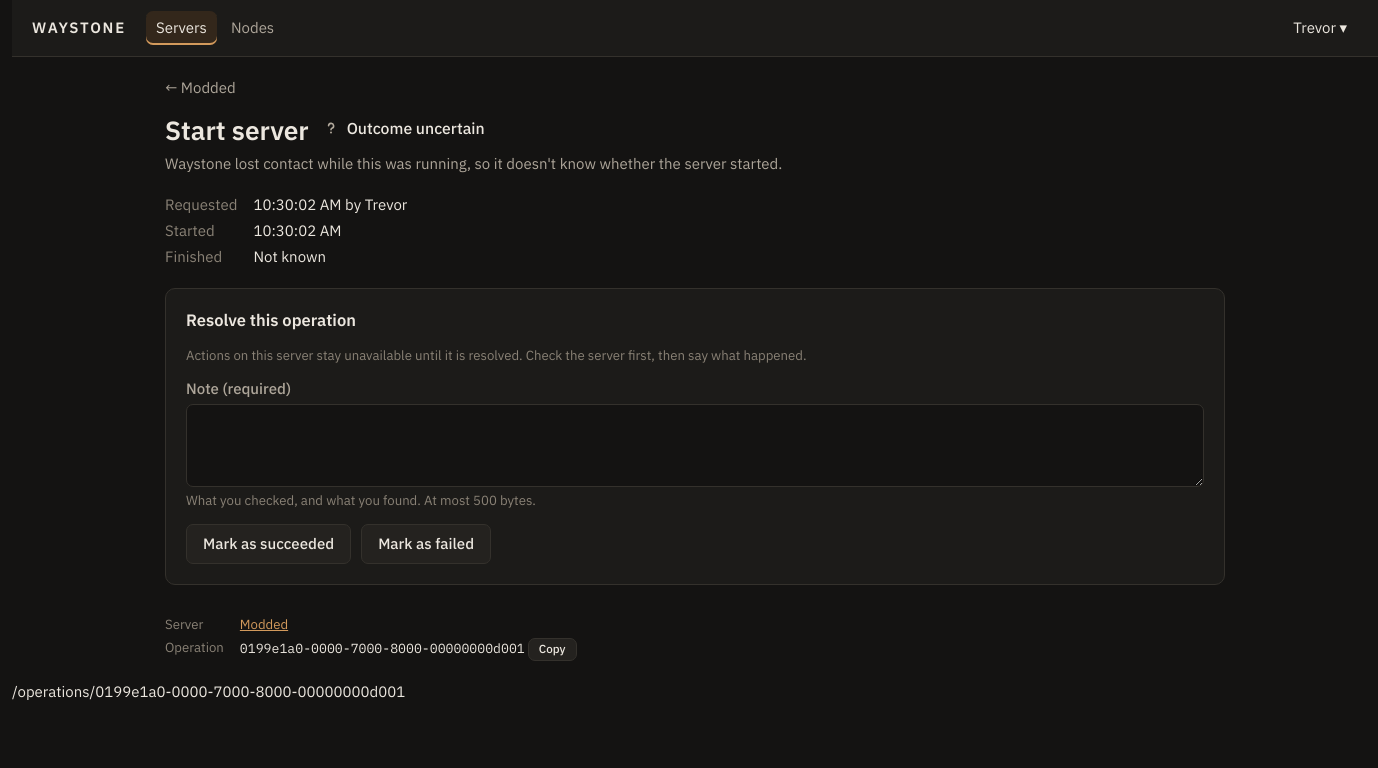
Test: operation details (wireframes §4) › resolve: the note is required, then it sends outcome and note with CSRF, and shows the result
Click the button "Mark as failed": (426, 544) [361,524,491,564]
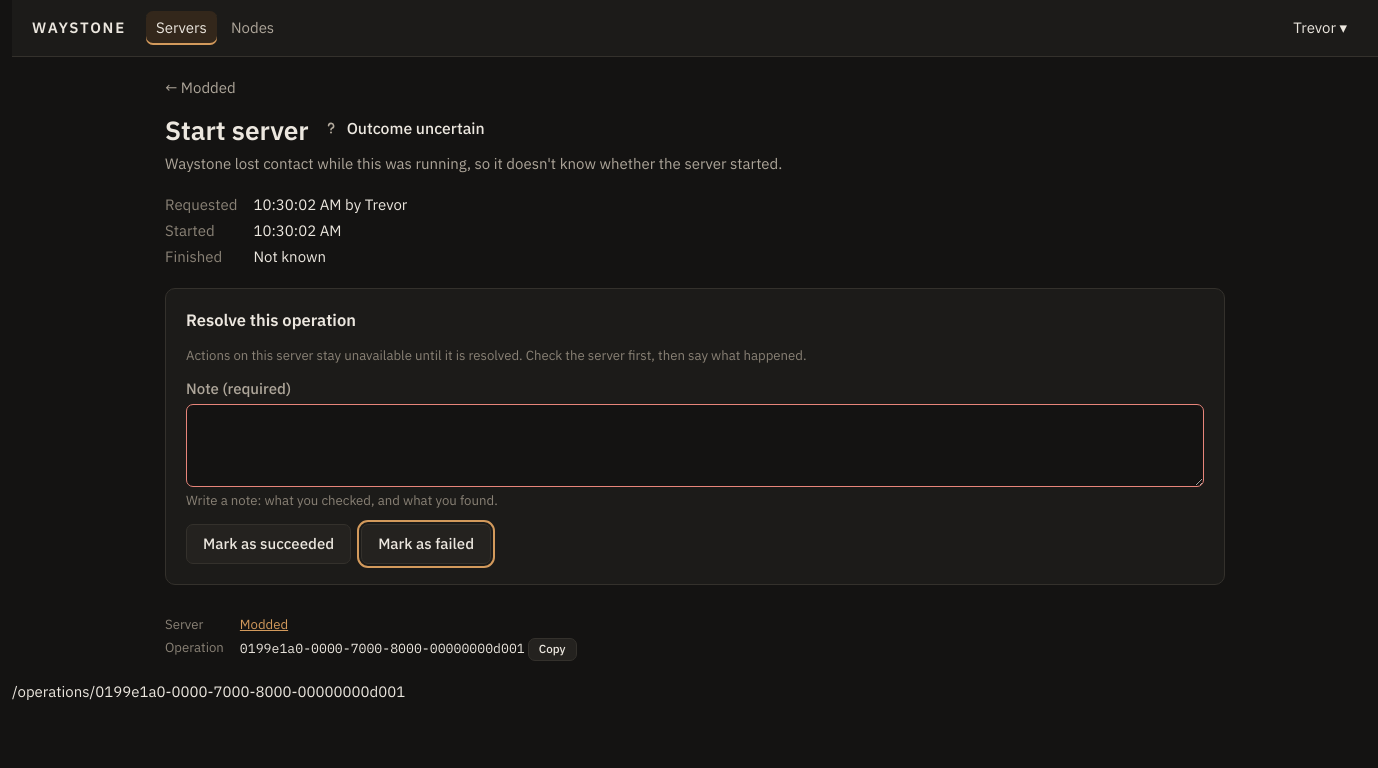
Now the text "Write a note: what you checked, and what you found." is shown, box [186,491,498,509]
In the text box labelled "Note (required)": (695, 445) [186,404,1204,487], type "Checked the console; it never came up."
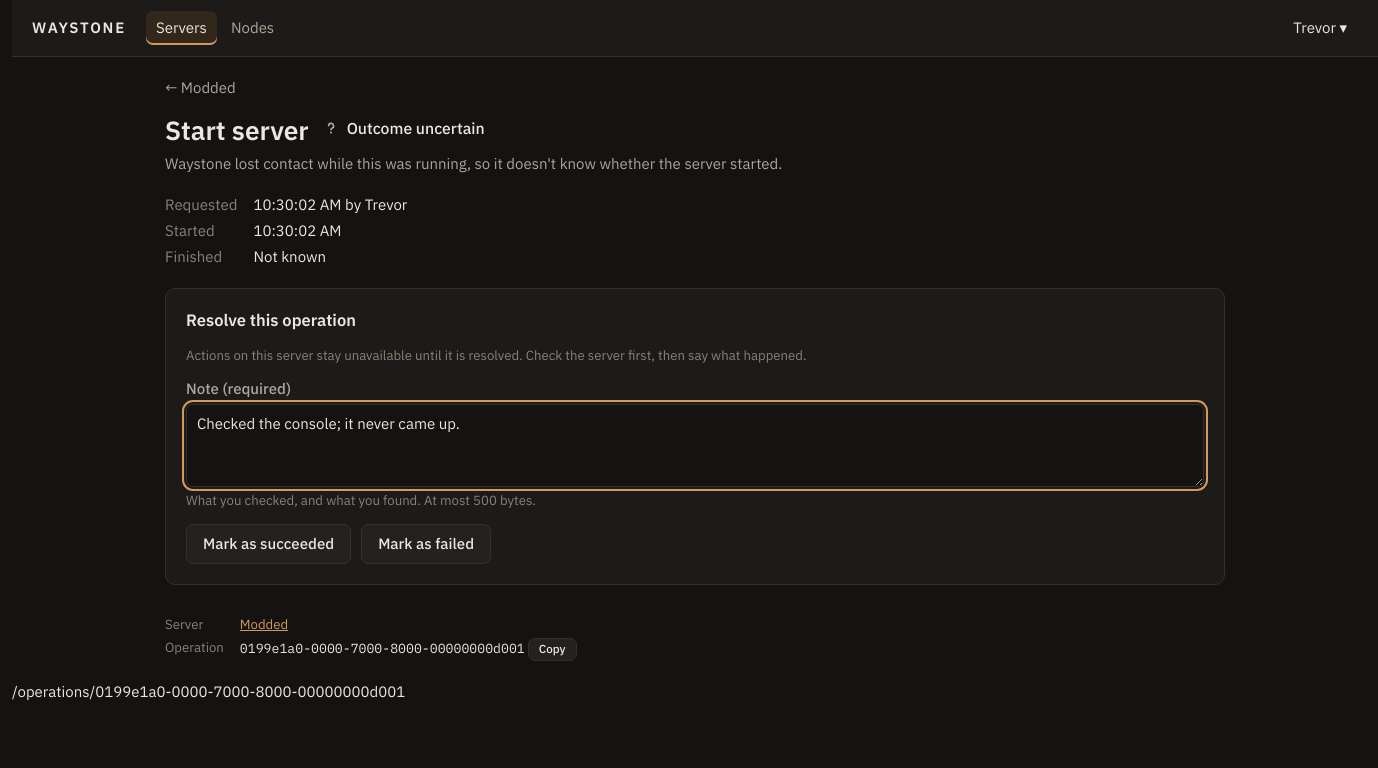
Click the button "Mark as failed": (426, 544) [361,524,491,564]
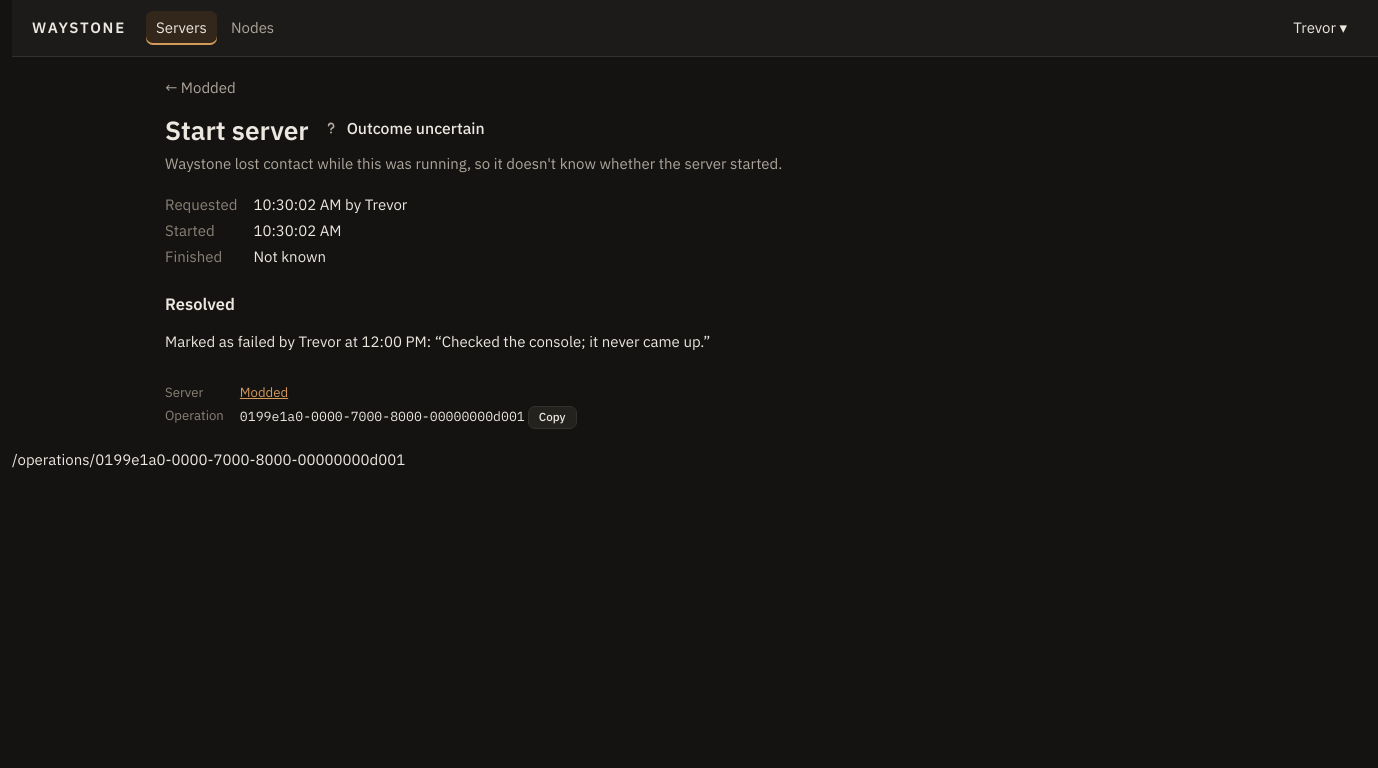
Now the element "Resolved" shows "Marked as failed by Trevor", box [165,293,710,352]
Now the element "Resolved" shows "“Checked the console; it never came up.”", box [165,293,710,352]
Now the heading "Resolve this operation" is gone
